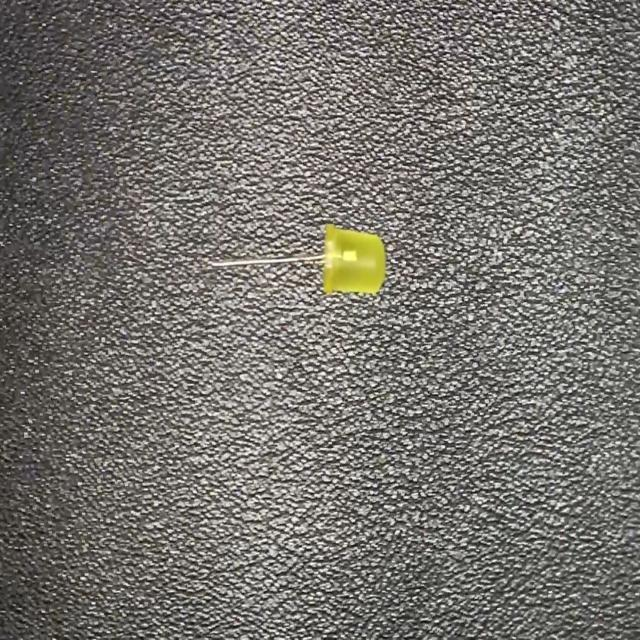missing-leg: (205, 221, 390, 296)
